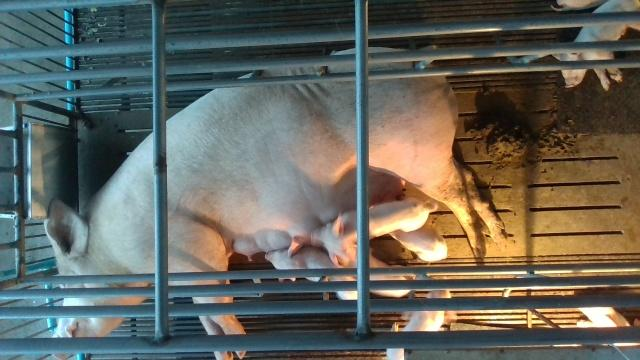piglet: (310, 200, 439, 266), (552, 0, 640, 89), (386, 289, 456, 360), (325, 243, 412, 297), (266, 248, 334, 283)
sow-sleep-lactate: (43, 47, 506, 360)
